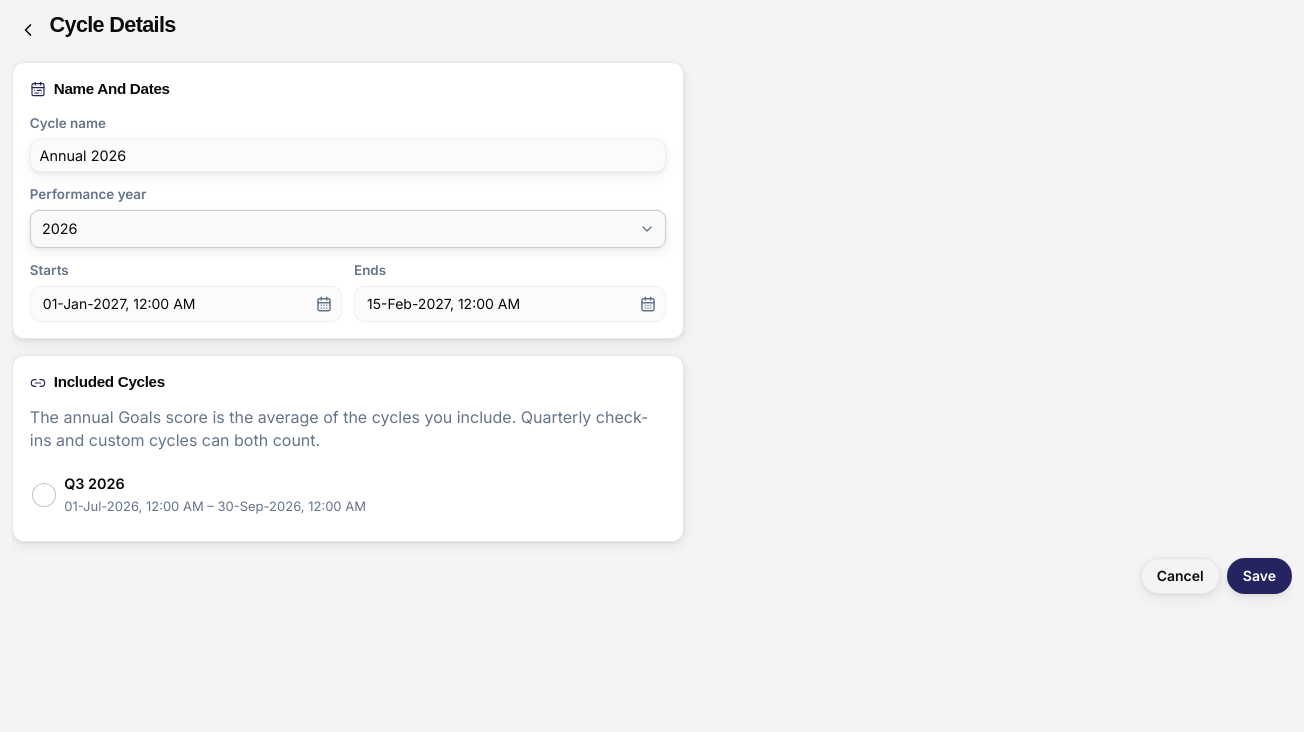
Test: CycleDetailsEditPage › lets people pick the performance year on an annual cycle
Click the button named "Performance year" at [60, 229], box [30,210,666,248]
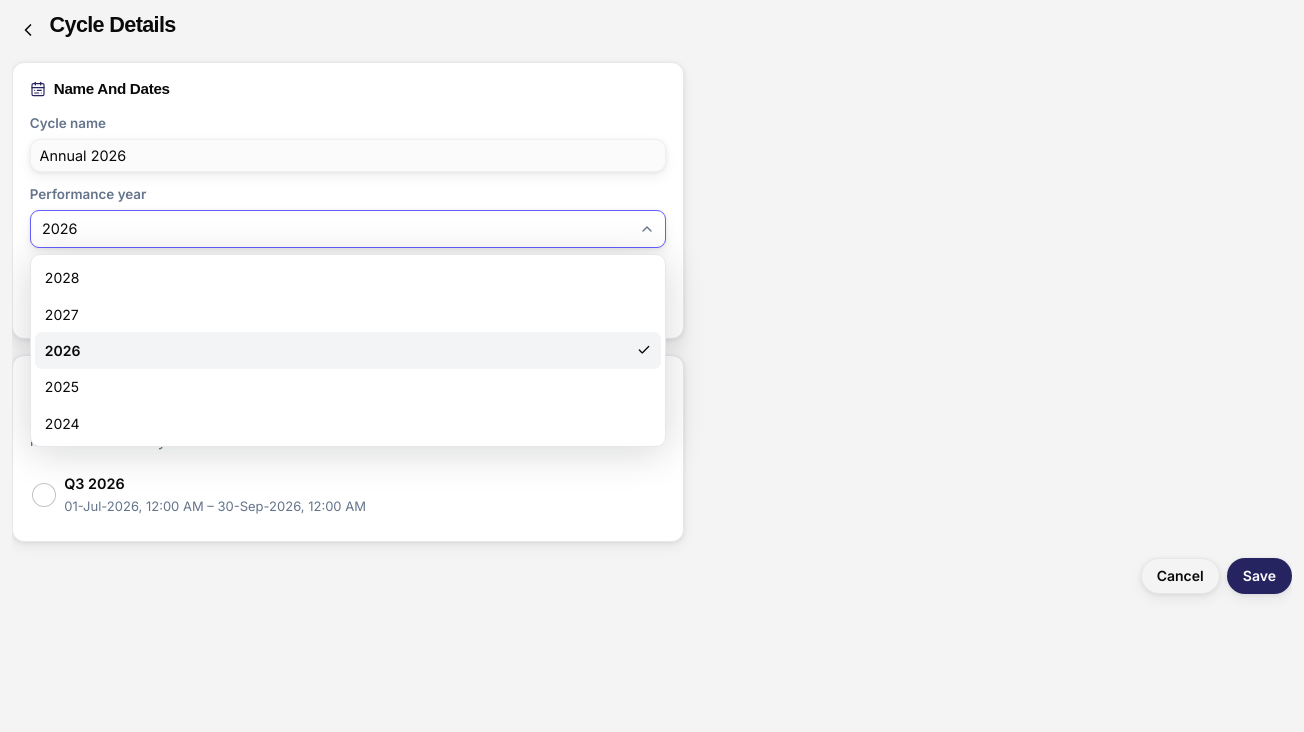
Click the option "2027" at [62, 314], box [35,296,661,332]
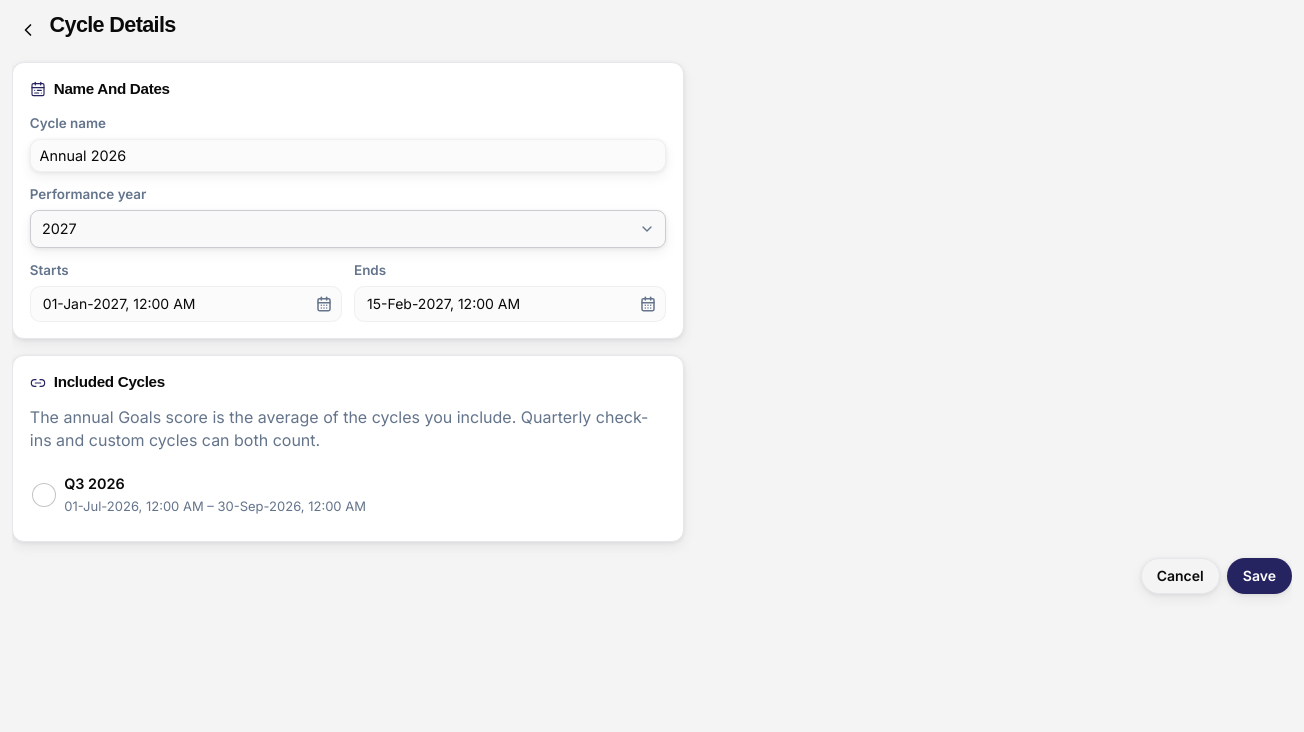
Expected: the button named "Performance year" reads "2027", [30,210,666,248]
